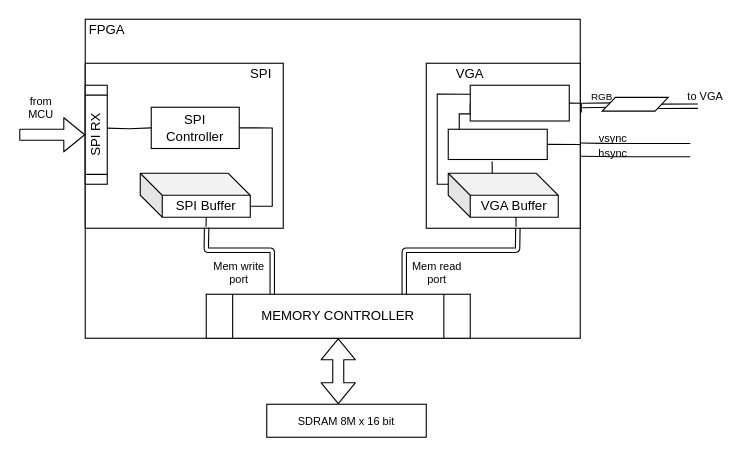
The diagram is 747 pixels wide and 457 high, and some of its shapes have lost their labels. The box of each missing label's shape, as (x1, y1, x2, y2) in pixels:
DAC: (601, 96, 668, 111)
VGA Controller: (447, 128, 547, 160)
VGA Datapath: (469, 84, 569, 121)
